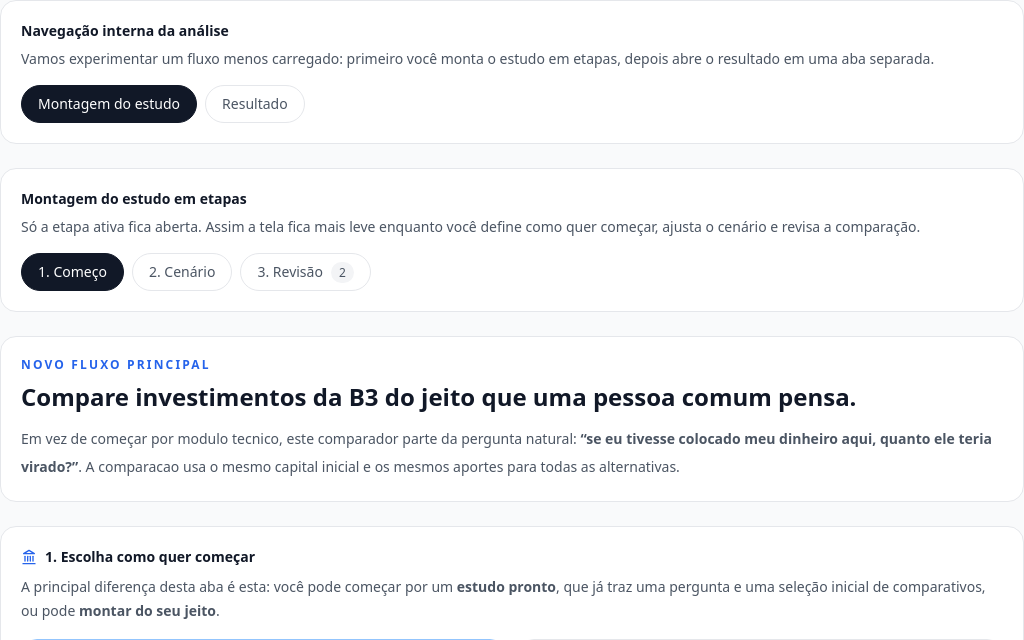
it: InvestmentsWorkspace › guides the decision profile in wizard steps
What coordinates should you click on to do the following:
click the button "2. Cenário"
I would click on:
 (182, 272)
Its box is [132, 253, 232, 291].
(page scrolled)
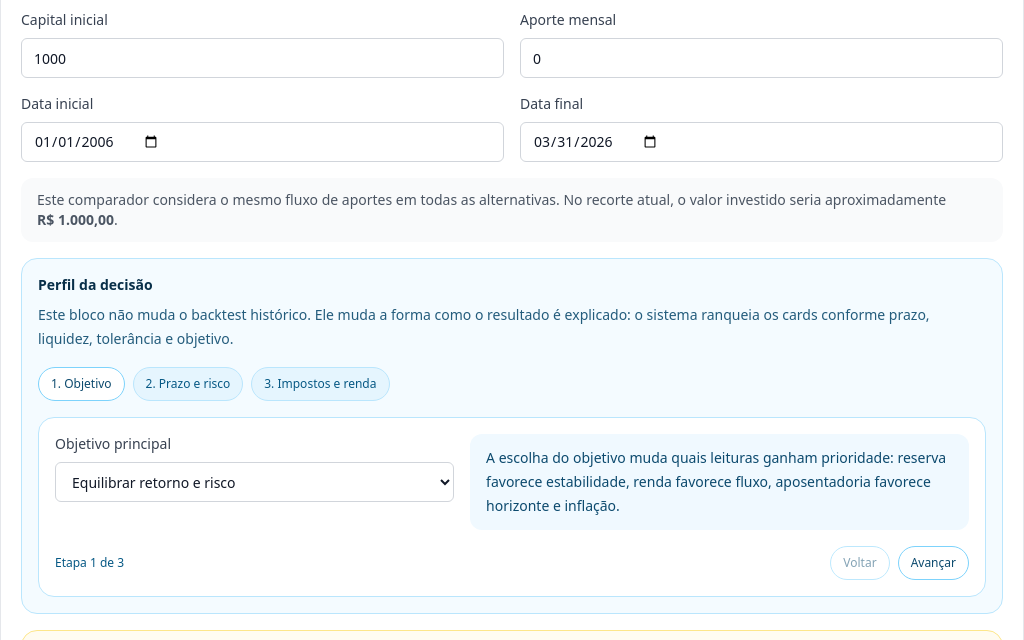
Expected: the text "Marcação a mercado" is not shown
Expected: the button "1. Objetivo" is shown, [38, 367, 125, 401]
What coordinates should you click on to do the following:
click the button "2. Prazo e risco"
I would click on:
 (188, 384)
Its box is [133, 367, 243, 401].
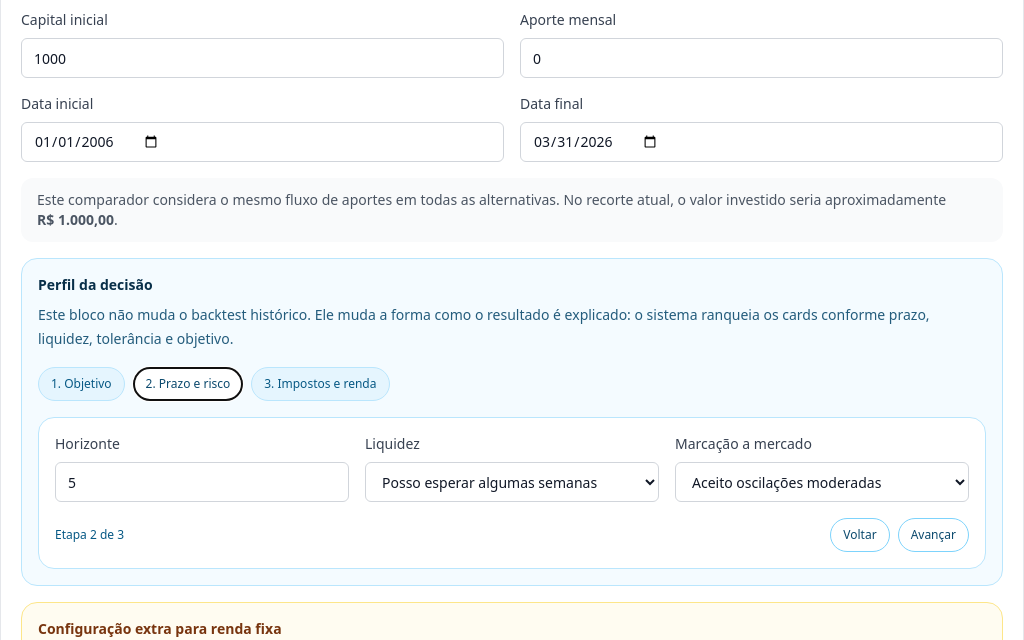
Expected: the text "Marcação a mercado" is shown, [675, 434, 812, 453]
Expected: the text "Etapa 2 de 3" is shown, [55, 527, 124, 543]
